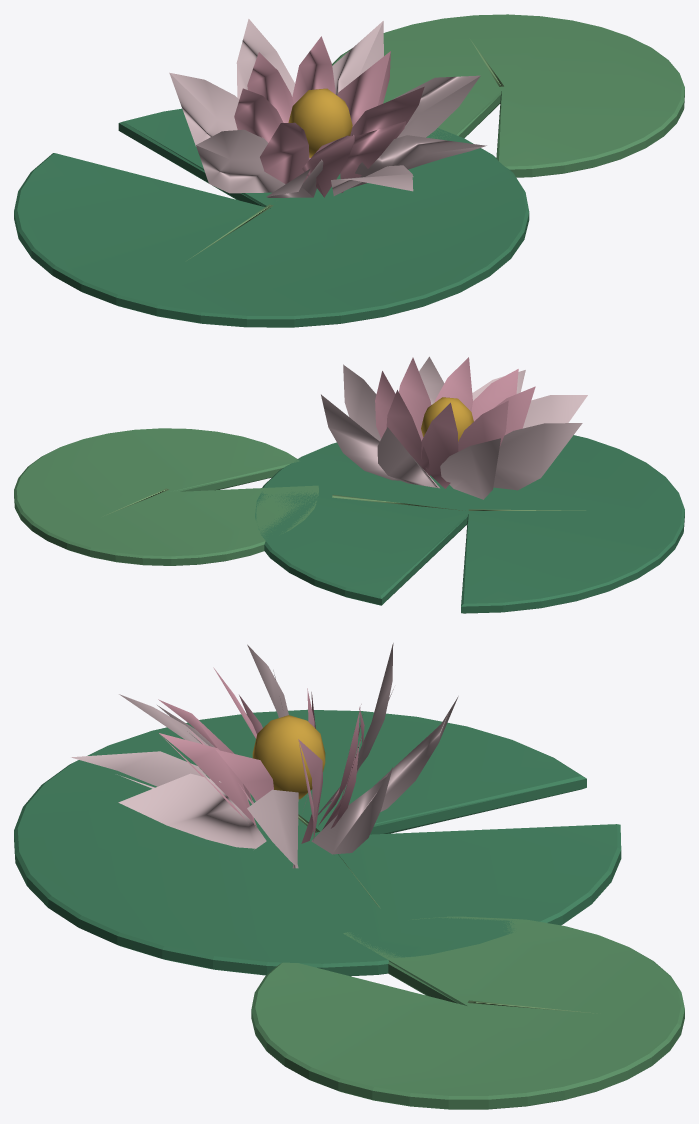
Rendered from nenufar_lod.glb.
3 views of the same model, one above another, from view 1: azimuth 30°, elevation 25°; view 2: azimuth 150°, elevation 25°; view 3: azimuth 270°, elevation 25° (orthographic). The views are drawn at different scales.
Parts seen in each view (by area): view 1: nenufar_hojas_flotantes_0; view 2: nenufar_hojas_flotantes_0; view 3: nenufar_hojas_flotantes_0.
Part boxes in pixels (x1,y1,x2,y2): nenufar_hojas_flotantes_0: [14, 14, 684, 327]; nenufar_hojas_flotantes_0: [14, 356, 684, 613]; nenufar_hojas_flotantes_0: [14, 643, 684, 1109].
Size of the model in its own units: 0.7352 by 0.1615 by 0.5355.
